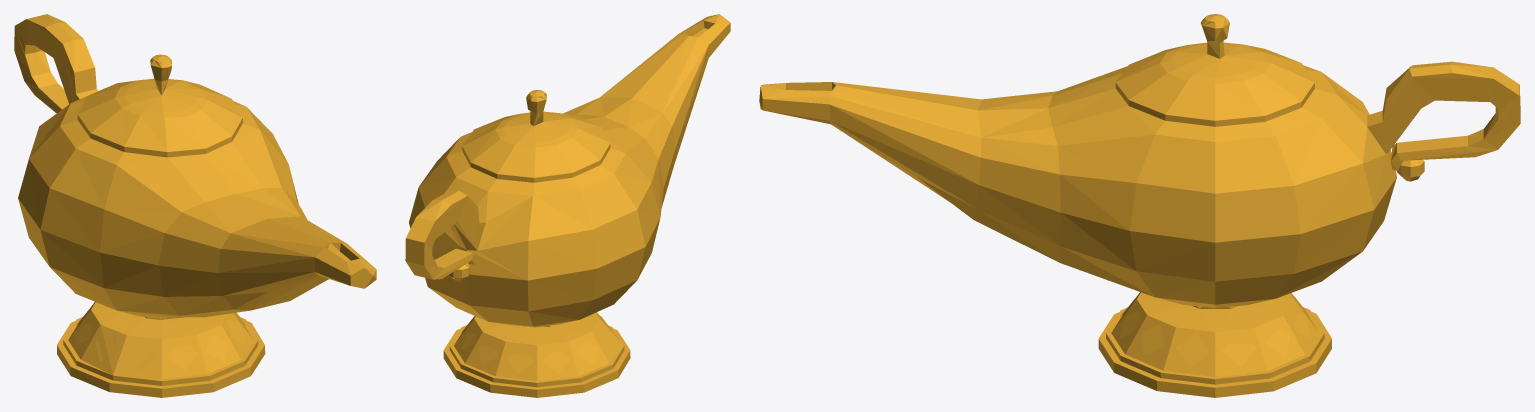
Rendered from other-genie-s-lamp-282.glb.
3 views of the same model, side by side, from view 1: azimuth 30°, elevation 25°; view 2: azimuth 150°, elevation 25°; view 3: azimuth 270°, elevation 25° (orthographic). The views are drawn at different scales.
Visible parts, largest first — view 1: Node; view 2: Node; view 3: Node.
Boxes of the visible parts, bbox=[...] form: Node: bbox=[14, 14, 376, 397]; Node: bbox=[405, 14, 730, 397]; Node: bbox=[759, 14, 1520, 397].
Bounding box in the file's own units: 1.41 × 1.66 × 3.45.
